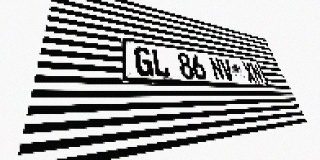6: (189, 54, 208, 80)
8: (176, 52, 195, 79)
G: (134, 46, 154, 77)
L: (151, 49, 170, 78)
N: (208, 57, 226, 81), (249, 63, 264, 83)
V: (219, 58, 235, 81)
X: (241, 62, 257, 82)
